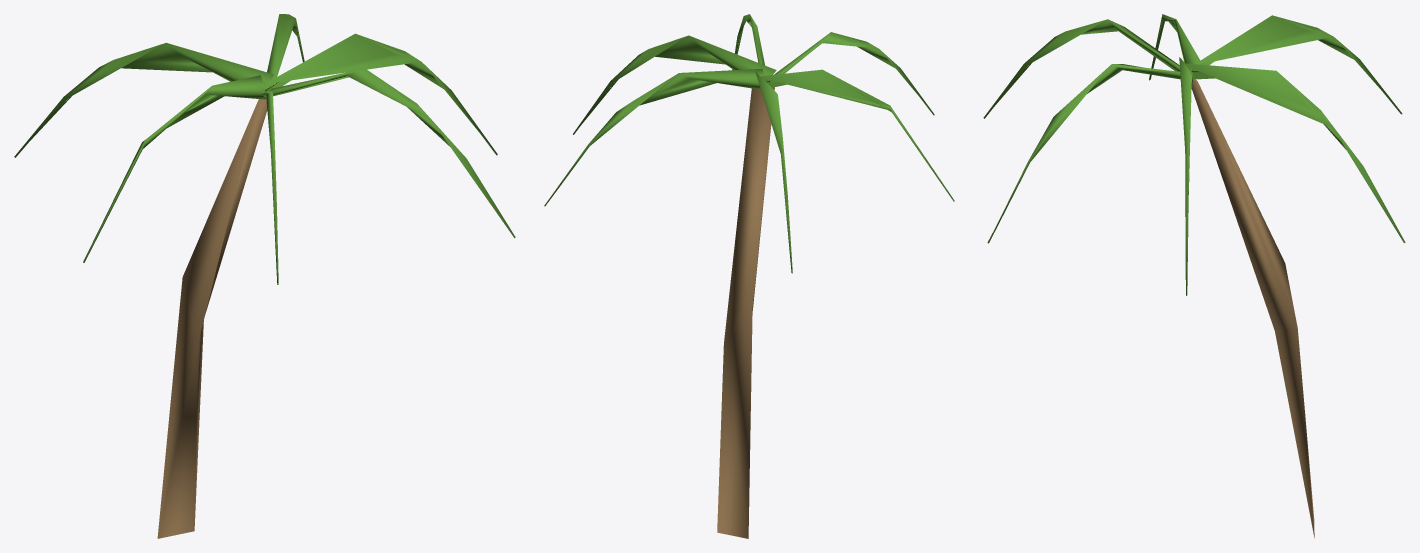
The model's file is lod3-palm.glb.
The picture shows the model from 3 angles, left to right: view 1: azimuth 30°, elevation 25°; view 2: azimuth 150°, elevation 25°; view 3: azimuth 270°, elevation 25°; orthographic projection. The views are drawn at different scales.
Parts seen in each view (by area): view 1: lod3-palm; view 2: lod3-palm; view 3: lod3-palm.
Boxes of the visible parts, bbox=[...] form: lod3-palm: bbox=[14, 14, 515, 538]; lod3-palm: bbox=[544, 14, 954, 538]; lod3-palm: bbox=[983, 14, 1405, 538].
Bounding box in the file's own units: 5.06 × 5.83 × 4.41.
